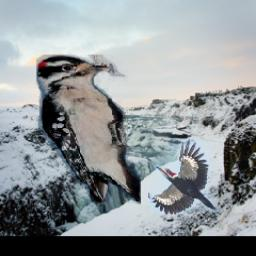Woodpecker: (36, 56, 141, 205), (147, 139, 217, 215)
